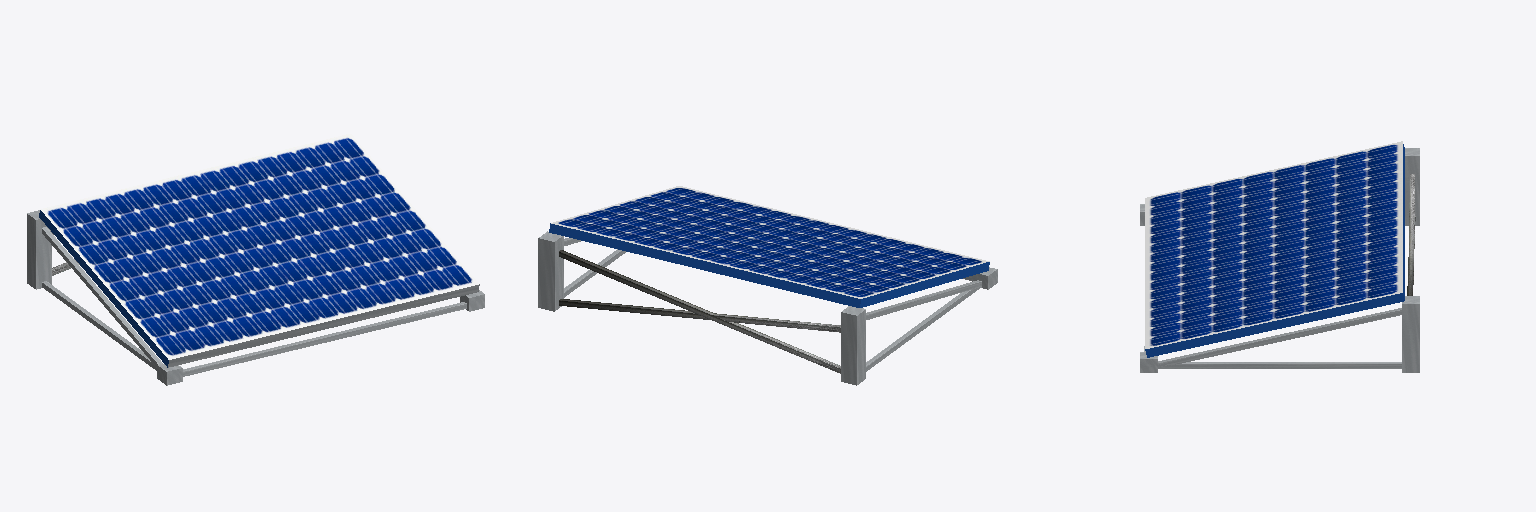
3 views of the same model, side by side, from view 1: azimuth 30°, elevation 25°; view 2: azimuth 150°, elevation 25°; view 3: azimuth 270°, elevation 25° (orthographic).
Visible parts, largest first — view 1: Box012, Box011, Box001, Box004, Box003; view 2: Box012, Box010, Box009, Box001, Box005, Box003, Box004; view 3: Box012, Box006, Box007, Box005, Box001.
Boxes of the visible parts, x1,y1,x2,y2 form: Box012: [39, 134, 479, 367]; Box011: [183, 302, 466, 376]; Box001: [27, 210, 51, 289]; Box004: [42, 227, 162, 367]; Box003: [42, 281, 156, 370]; Box012: [549, 186, 989, 307]; Box010: [559, 250, 840, 373]; Box009: [559, 299, 840, 332]; Box001: [841, 306, 865, 385]; Box005: [538, 231, 563, 311]; Box003: [866, 283, 981, 371]; Box004: [866, 280, 981, 319]; Box012: [1145, 141, 1404, 357]; Box006: [1158, 308, 1401, 368]; Box007: [1158, 362, 1401, 368]; Box005: [1402, 296, 1419, 372]; Box001: [1405, 148, 1419, 225].
Size of the model in its own units: 59.48 by 14.07 by 45.31.
Materials: 4 (3 with a texture image).